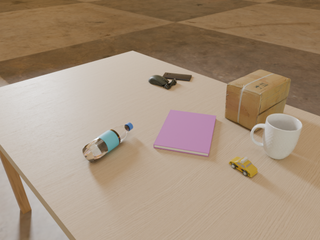book: (154, 110, 216, 157)
bottle: (82, 123, 133, 162)
box: (225, 70, 291, 132)
cup: (251, 114, 302, 159)
mouse: (148, 75, 177, 89)
phone: (163, 73, 192, 81)
toy_car: (229, 157, 258, 177)
